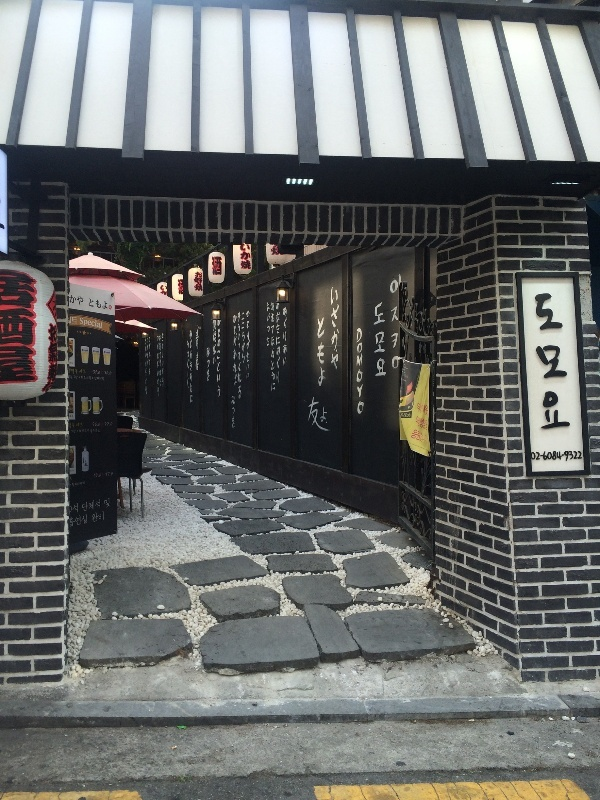text: (545, 293, 560, 430), (1, 268, 16, 384), (17, 268, 32, 384), (49, 287, 63, 398), (561, 293, 572, 430), (273, 302, 288, 394), (535, 293, 544, 430), (356, 326, 368, 415), (390, 272, 400, 370), (161, 237, 176, 302), (177, 237, 192, 302), (193, 237, 208, 302), (209, 237, 224, 302), (225, 237, 240, 302), (145, 336, 160, 396), (213, 318, 224, 399), (374, 301, 384, 378), (242, 312, 256, 365), (246, 311, 256, 381), (241, 237, 251, 302), (196, 329, 208, 371), (233, 314, 240, 386), (33, 268, 37, 384), (267, 302, 272, 394), (309, 394, 320, 434), (331, 287, 336, 373), (321, 394, 331, 434), (321, 317, 326, 387), (45, 287, 48, 398), (231, 396, 240, 430), (81, 293, 96, 311), (161, 332, 165, 399), (237, 312, 240, 400), (337, 287, 340, 373), (187, 340, 192, 389), (417, 402, 432, 417), (97, 293, 109, 311), (317, 317, 320, 387), (157, 332, 160, 399), (69, 293, 80, 311), (83, 499, 96, 513), (81, 317, 96, 329), (417, 417, 428, 431), (69, 514, 80, 528), (545, 451, 560, 461), (561, 451, 576, 461), (190, 331, 192, 403), (421, 432, 432, 445), (273, 244, 284, 256), (531, 451, 544, 461), (81, 375, 96, 382), (104, 498, 112, 509), (241, 312, 242, 400), (97, 511, 104, 523), (73, 502, 80, 514), (81, 514, 87, 528), (71, 317, 80, 326), (385, 301, 386, 378), (69, 368, 80, 375), (69, 422, 80, 429), (401, 413, 416, 418), (81, 429, 96, 434), (206, 347, 208, 384), (209, 347, 211, 384), (97, 317, 103, 329), (70, 375, 80, 382), (97, 499, 101, 513), (577, 451, 582, 461), (97, 375, 104, 382), (417, 430, 421, 442), (92, 511, 96, 523), (72, 481, 80, 487), (71, 429, 80, 434), (413, 430, 416, 442), (81, 368, 86, 375), (105, 422, 112, 427), (105, 371, 112, 375), (97, 473, 102, 478), (81, 481, 85, 487), (106, 472, 112, 476), (81, 422, 84, 429), (97, 370, 101, 375), (97, 429, 101, 434), (92, 423, 96, 427), (97, 423, 101, 427), (93, 370, 96, 375), (271, 244, 272, 256), (94, 473, 96, 478)
